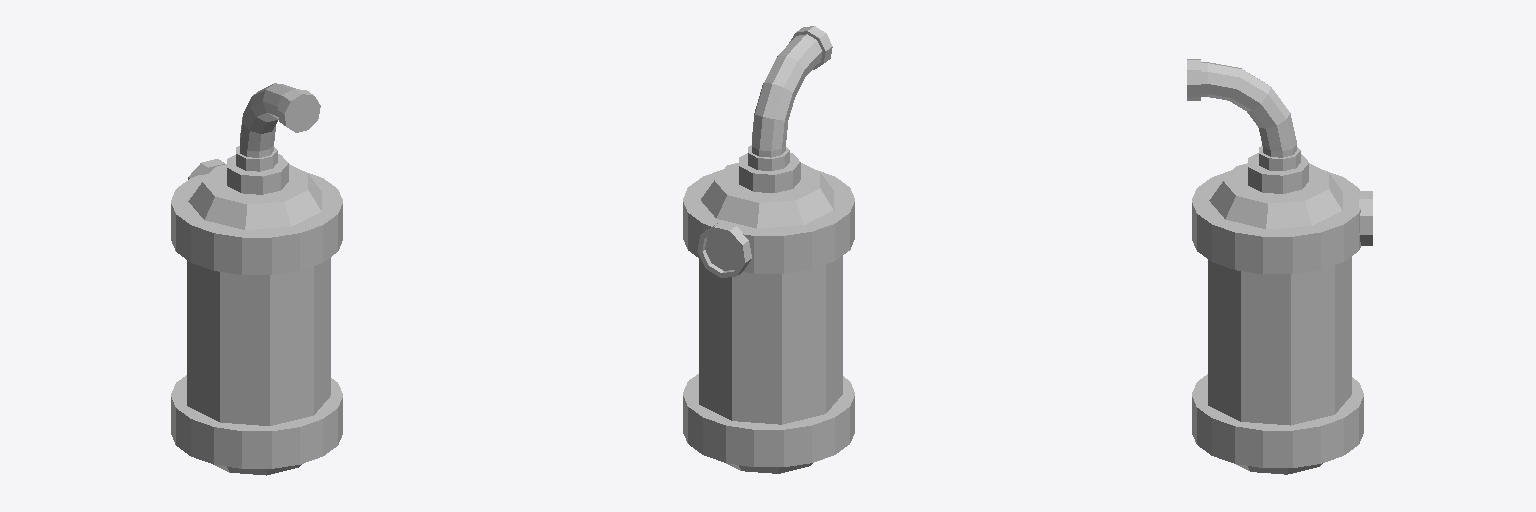
The model's file is PiezaMaquina.obj.
3 views of the same model, side by side, from view 1: azimuth 30°, elevation 25°; view 2: azimuth 150°, elevation 25°; view 3: azimuth 270°, elevation 25° (orthographic).
Parts seen in each view (by area): view 1: Cilindro, Cilindro.002, Cilindro.001, Cilindro.004, Rosca.001, Cilindro.007_Cilindro.010; view 2: Cilindro, Cilindro.001, Cilindro.002, Rosca.001, Cilindro.004, Cilindro.005, Cilindro.007_Cilindro.010; view 3: Cilindro, Cilindro.002, Cilindro.001, Rosca.001, Cilindro.004, Cilindro.007_Cilindro.010, Cilindro.005.
Part boxes in pixels (x1,y1,x2,y2): Cilindro: (187, 257, 330, 425); Cilindro.002: (171, 170, 342, 274); Cilindro.001: (171, 375, 342, 468); Cilindro.004: (188, 164, 321, 229); Rosca.001: (236, 83, 320, 171); Cilindro.007_Cilindro.010: (227, 154, 288, 194); Cilindro: (699, 256, 842, 424); Cilindro.001: (683, 374, 854, 466); Cilindro.002: (683, 169, 854, 273); Rosca.001: (748, 26, 832, 170); Cilindro.004: (701, 163, 833, 228); Cilindro.005: (697, 222, 751, 277); Cilindro.007_Cilindro.010: (739, 153, 800, 192); Cilindro: (1208, 257, 1351, 425); Cilindro.002: (1192, 170, 1360, 273); Cilindro.001: (1192, 374, 1363, 467); Rosca.001: (1187, 59, 1300, 170); Cilindro.004: (1209, 163, 1342, 228); Cilindro.007_Cilindro.010: (1248, 153, 1308, 193); Cilindro.005: (1359, 191, 1372, 245).
Size of the model in its own units: 2.39 by 6.07 by 2.61.